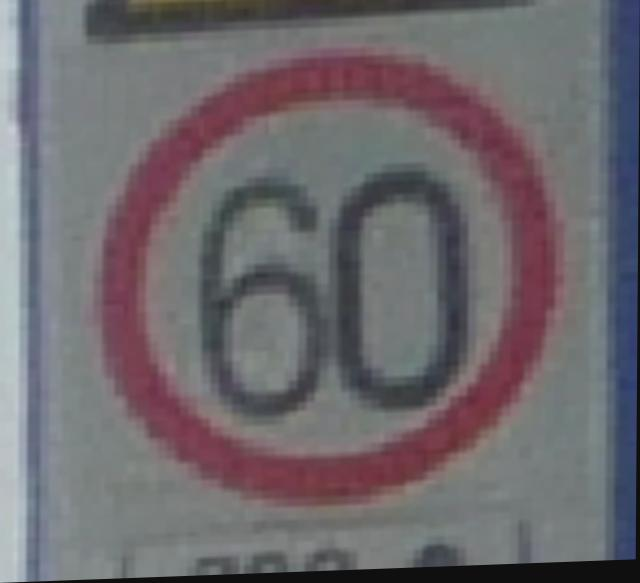limit60: (77, 36, 573, 525)
